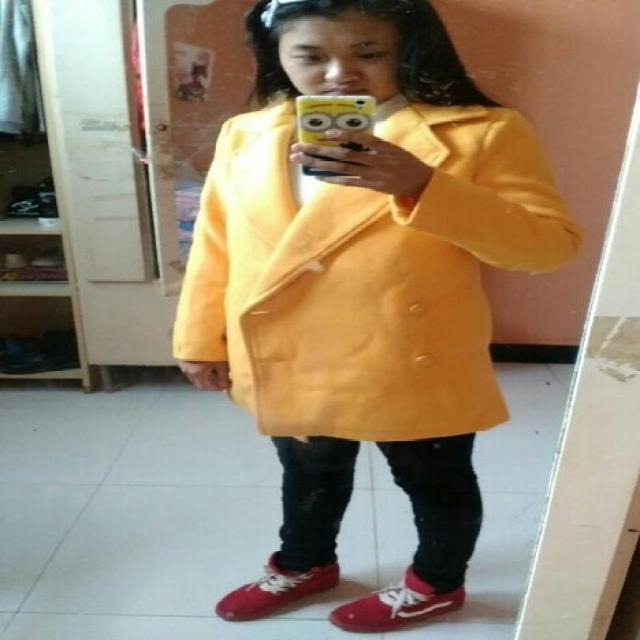long sleeve top: (175, 99, 576, 438)
trousers: (253, 320, 475, 578)
